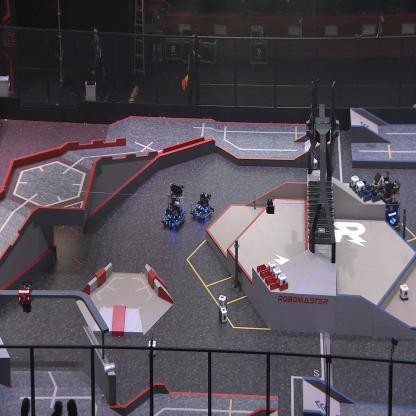car: (372, 176, 401, 232), (161, 182, 187, 228), (190, 189, 213, 224)
